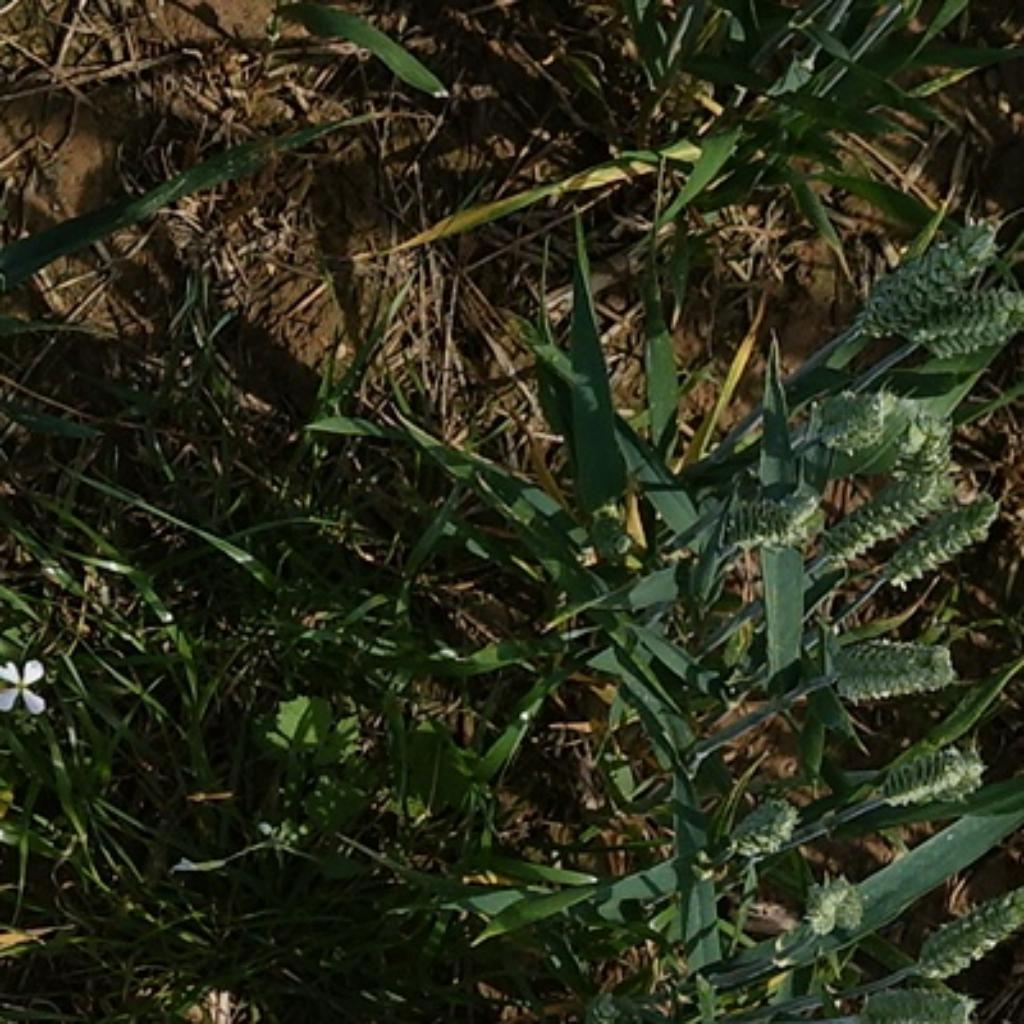0-0: (853, 223, 1005, 365), (872, 499, 998, 588), (916, 882, 1024, 983), (829, 476, 942, 563), (825, 630, 962, 698), (910, 289, 1020, 370), (863, 741, 995, 808), (800, 380, 904, 454), (885, 386, 965, 475), (712, 495, 826, 552), (844, 980, 977, 1024), (796, 870, 872, 939), (736, 798, 804, 861)
